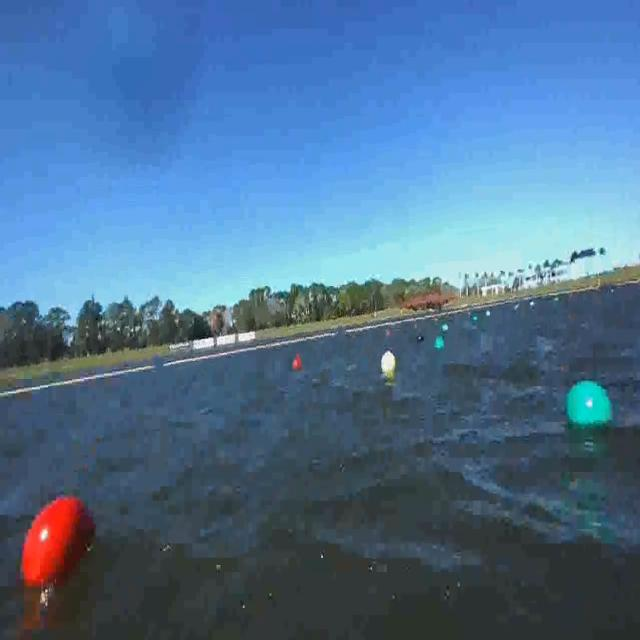black-buoy: (418, 336, 423, 345)
green-buoy: (564, 381, 612, 431), (435, 337, 443, 350)
red-buoy: (8, 489, 101, 601), (292, 359, 302, 372)
yellow-buoy: (382, 352, 397, 376)
